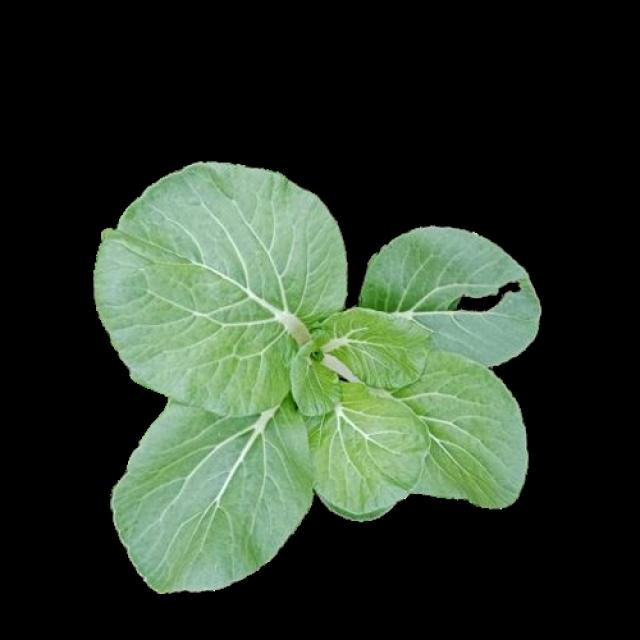not-mature: (92, 162, 542, 592)
unhealthy: (362, 225, 540, 378)
